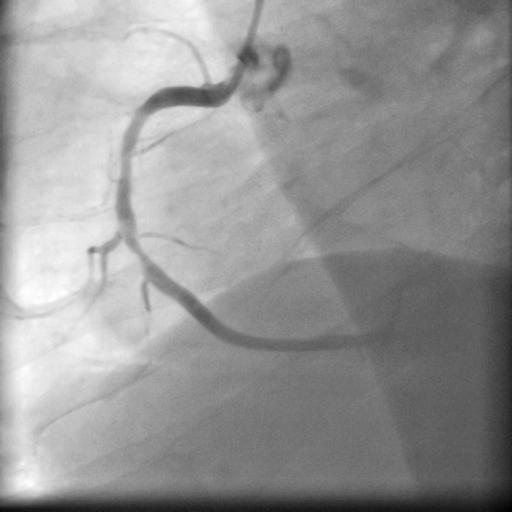Stenosis: (120, 227, 155, 275)
